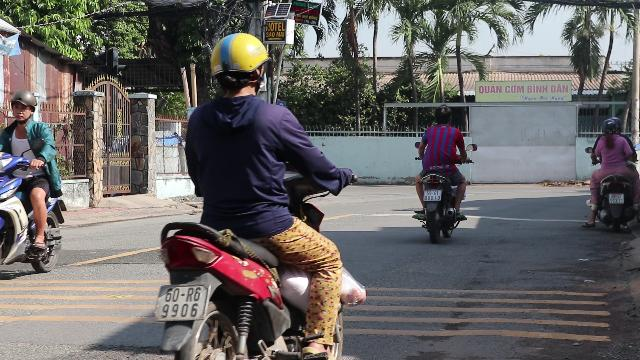helmet: (210, 31, 270, 97), (8, 88, 36, 124), (601, 117, 621, 135)
licenseplate: (424, 190, 442, 200), (609, 194, 623, 204)
motorcyclist: (146, 34, 370, 356), (0, 88, 68, 281), (410, 105, 470, 242), (584, 115, 640, 232)
nohelmet: (156, 286, 208, 318), (432, 104, 452, 126)
